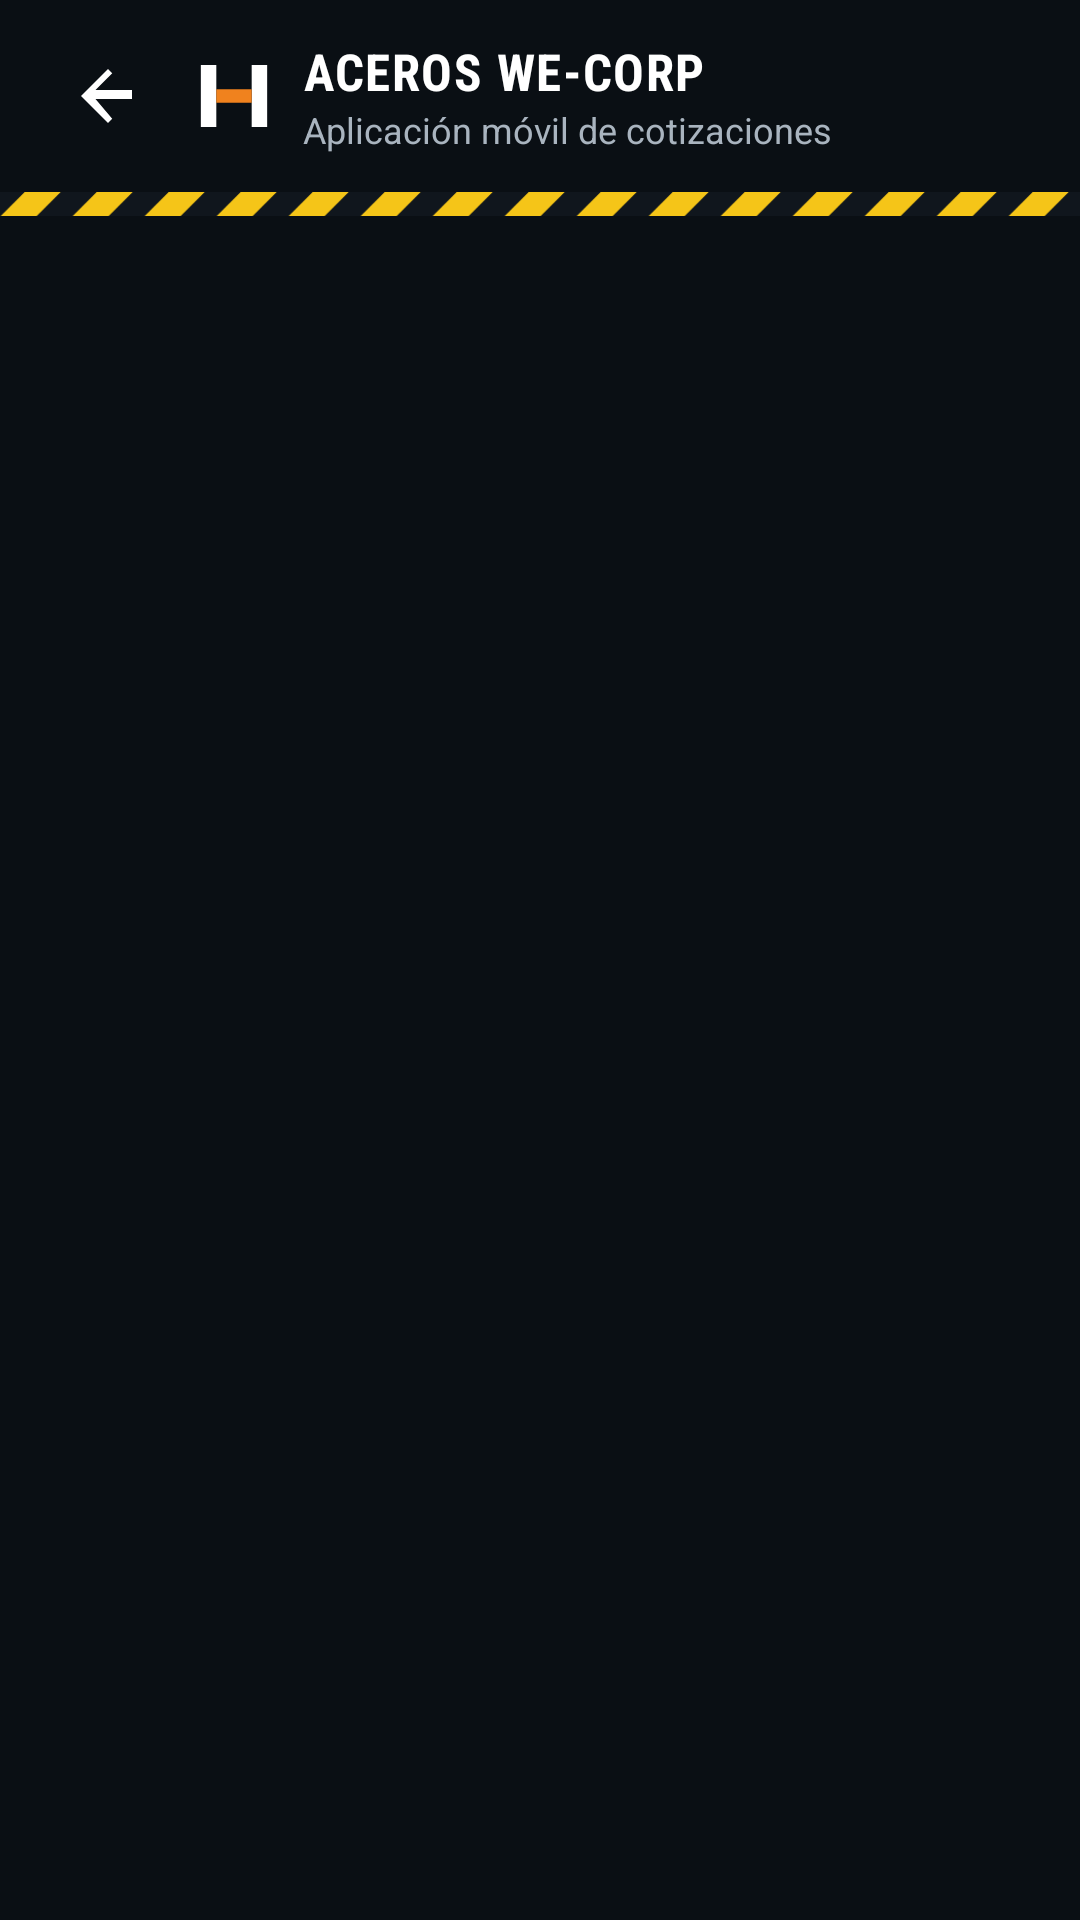

Icon click points for this 1080 x 1920 phone screenshot, format [x,y]:
Volver: [106,96]
